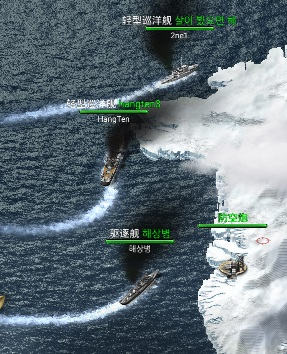ship: (120, 267, 163, 306), (101, 131, 126, 185), (161, 62, 201, 86)
